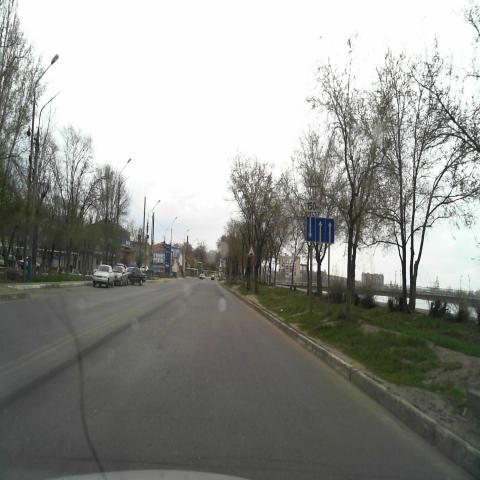5_15_7: (306, 214, 334, 244)
